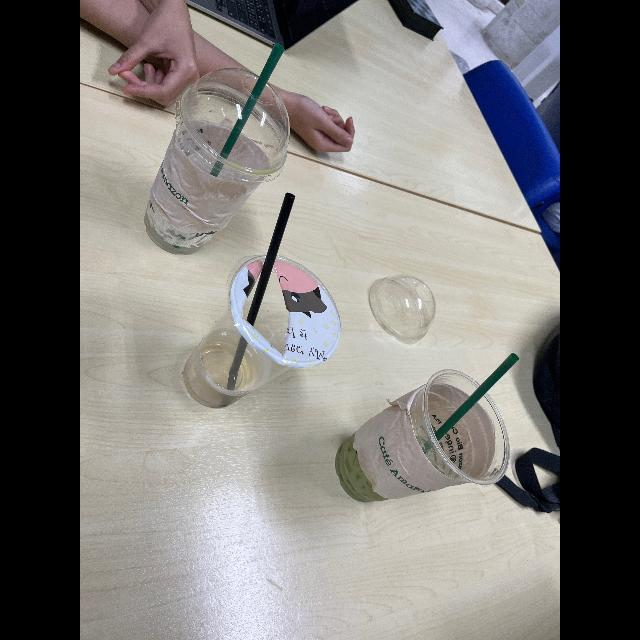plastic_cup: (138, 70, 294, 250), (180, 250, 344, 414), (334, 366, 510, 514)
plastic_cup_lid: (364, 272, 442, 344)
straw: (226, 193, 295, 392), (209, 42, 287, 178), (420, 351, 522, 452)
